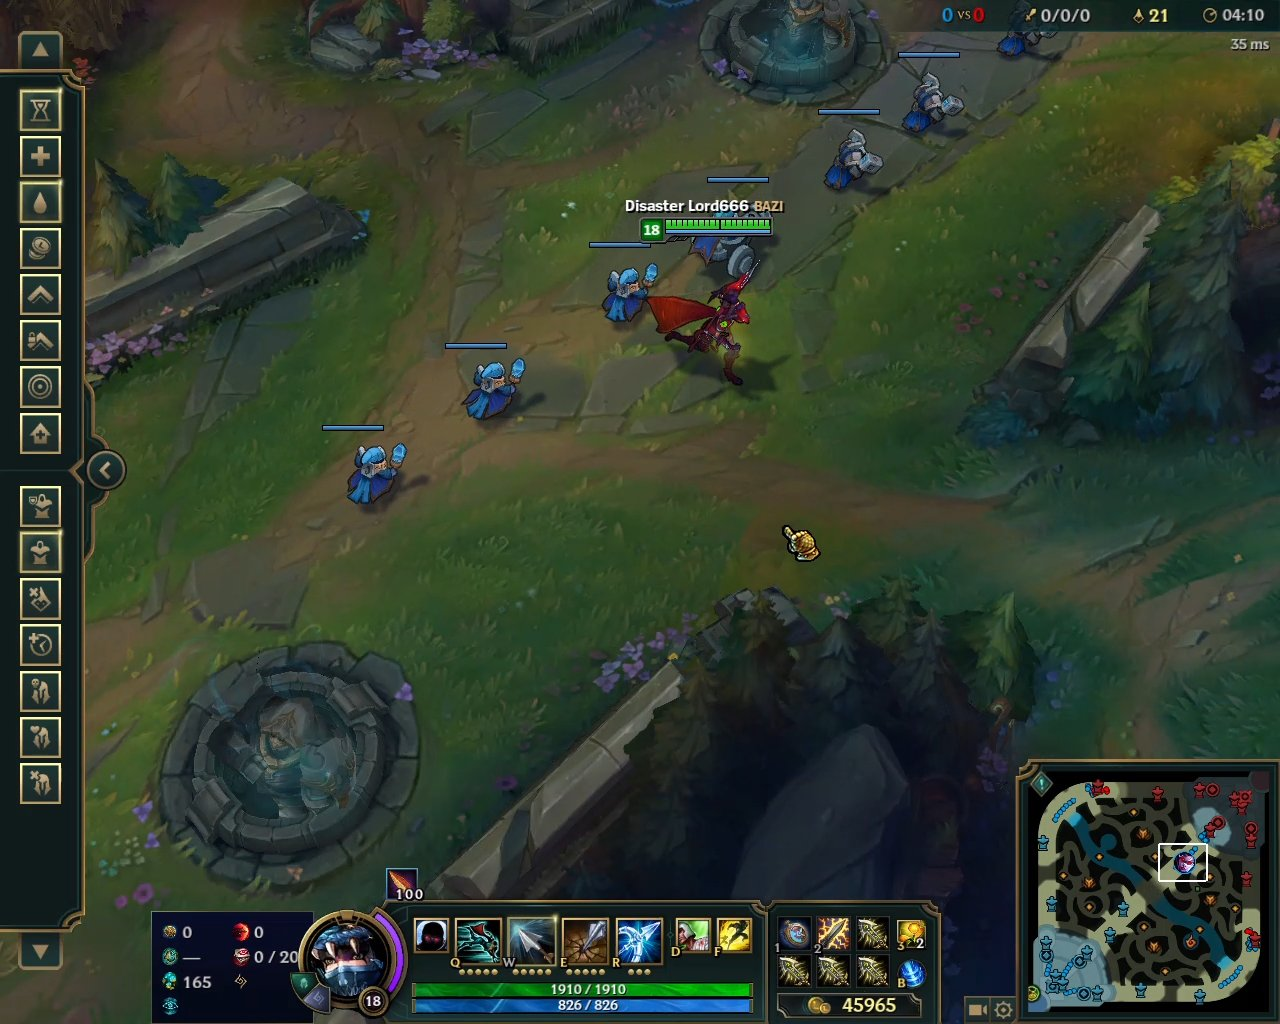Vayne: (639, 258, 767, 396)
